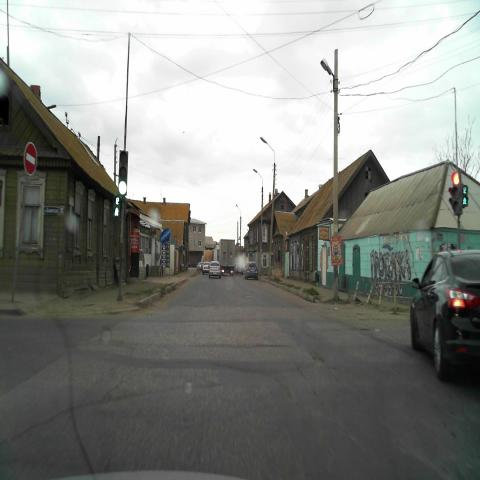3_1: (23, 140, 37, 177)
